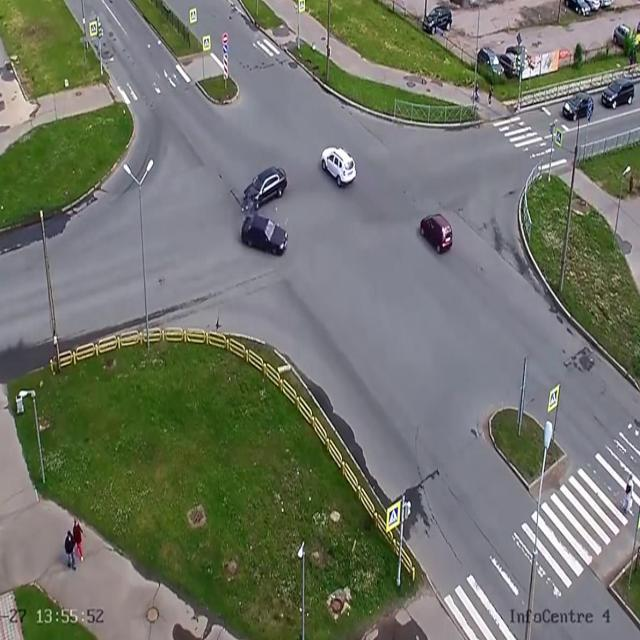accident: (229, 157, 300, 271)
